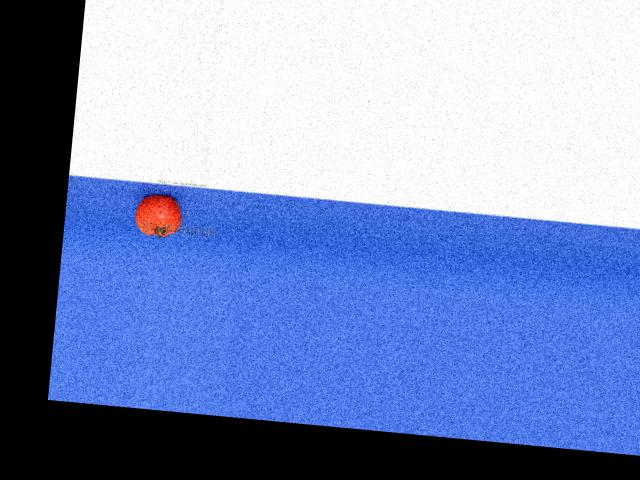tomato: (132, 192, 182, 237)
